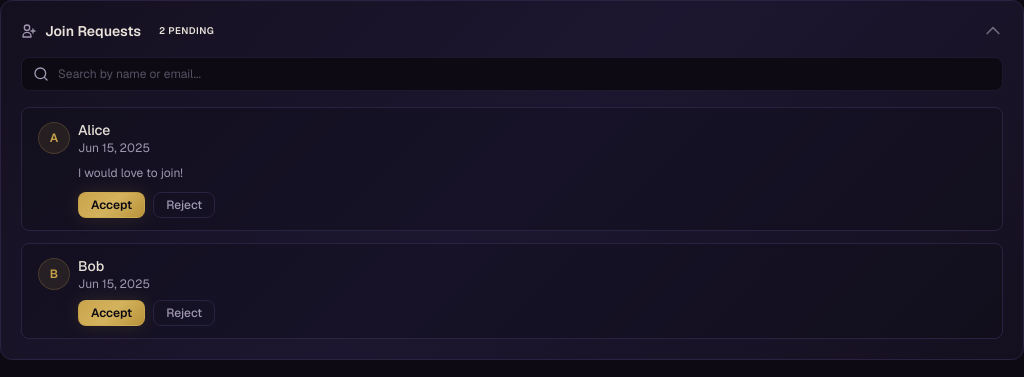
it: JoinRequestPanel › filters requests by search term
Expected: the text "Alice" is shown, left=78, top=121, right=110, bottom=139
Expected: the text "Bob" is shown, left=78, top=256, right=104, bottom=274
Type "Ali" into the field with placeholder "Search by name or email..." at (512, 74), box left=21, top=57, right=1003, bottom=91
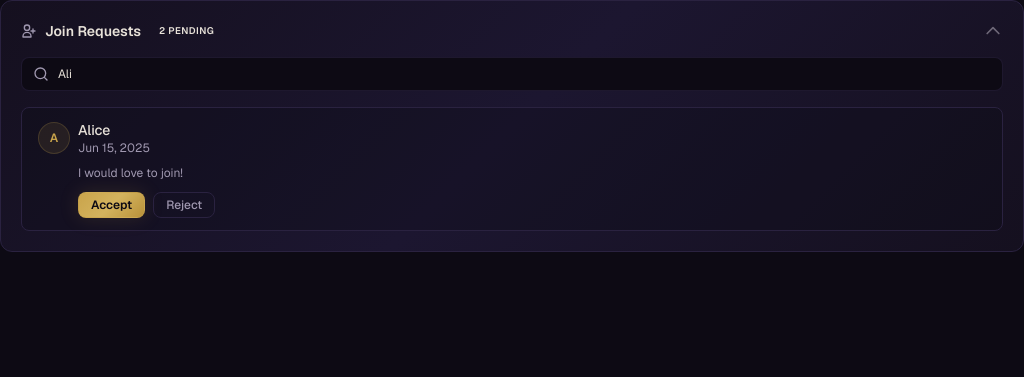
Expected: the text "Alice" is shown, left=78, top=121, right=110, bottom=139
Now the text "Bob" is gone
